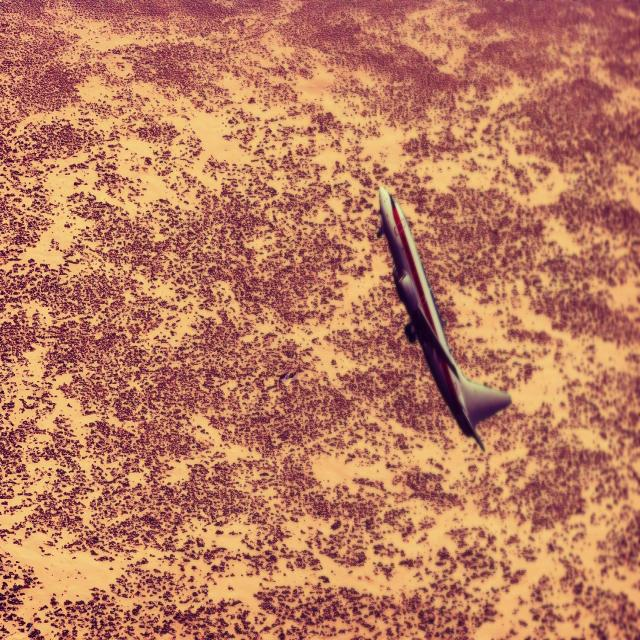airplane: (378, 184, 512, 452)
